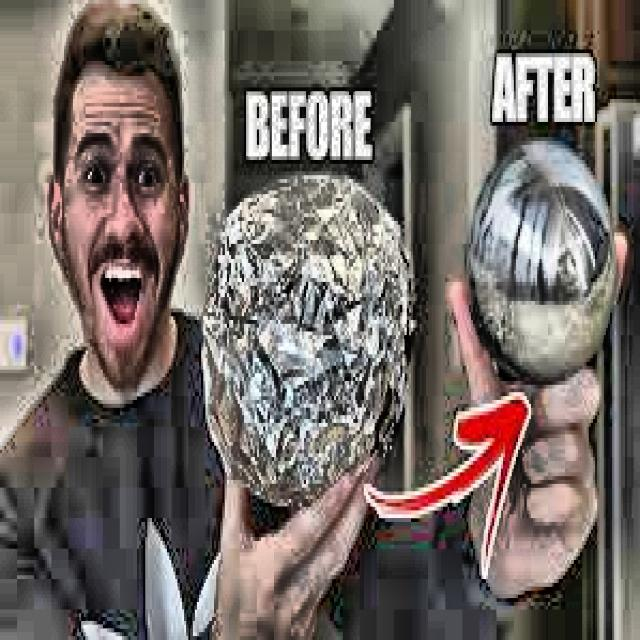Foil: (178, 140, 421, 515)
